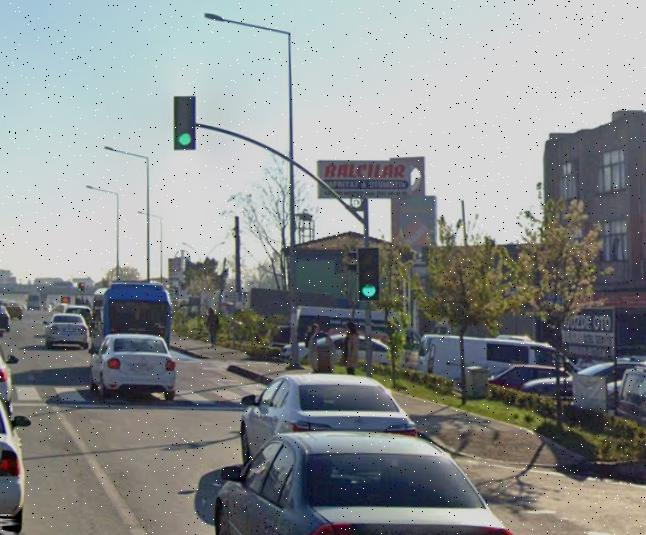greenlight: (172, 93, 196, 150), (358, 245, 380, 301)
